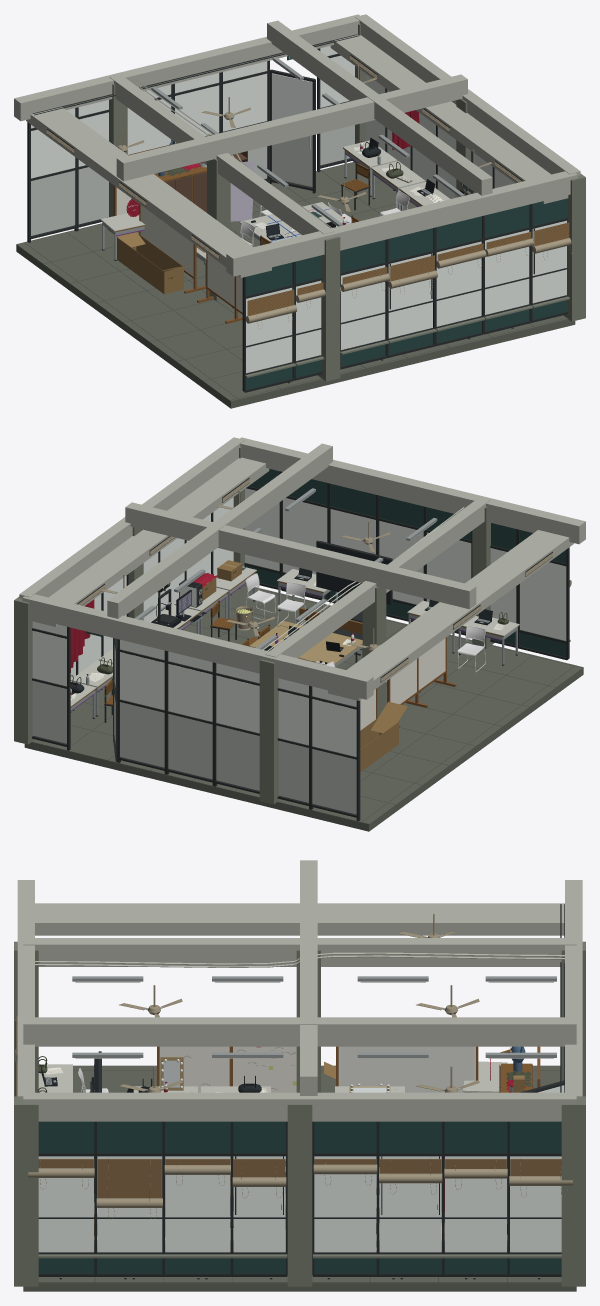
The model's file is studio.glb.
3 views of the same model, one above another, from view 1: azimuth 30°, elevation 25°; view 2: azimuth 150°, elevation 25°; view 3: azimuth 270°, elevation 25° (orthographic). The views are drawn at different scales.
Visible parts, largest first — view 1: architecture, services, window-portals, foliage-panels, furniture, details-perimeter--2-0, central-furniture, details-perimeter--1-1, details-perimeter-1-0, details-perimeter-1-1; view 2: architecture, services, window-portals, furniture, foliage-panels, central-furniture, details-perimeter--2-0, details-perimeter-1--1, details-perimeter-1--2, details-perimeter-1-1; view 3: services, architecture, window-portals, foliage-panels, furniture, details-perimeter--2-0, details-perimeter--1--1, details-perimeter--1-1.
Part boxes in pixels (x1=…): architecture: x1=16, y1=24, x2=585, y2=408; services: x1=14, y1=14, x2=580, y2=277; window-portals: x1=31, y1=46, x2=566, y2=373; foliage-panels: x1=246, y1=198, x2=567, y2=389; furniture: x1=100, y1=134, x2=513, y2=383; details-perimeter--2-0: x1=117, y1=233, x2=192, y2=294; central-furniture: x1=239, y1=202, x2=359, y2=246; details-perimeter--1-1: x1=158, y1=140, x2=254, y2=221; details-perimeter-1-0: x1=385, y1=110, x2=458, y2=202; details-perimeter-1-1: x1=354, y1=132, x2=405, y2=171; architecture: x1=14, y1=447, x2=583, y2=831; services: x1=19, y1=437, x2=585, y2=700; window-portals: x1=32, y1=488, x2=566, y2=756; furniture: x1=70, y1=540, x2=519, y2=730; foliage-panels: x1=245, y1=469, x2=566, y2=657; central-furniture: x1=241, y1=608, x2=362, y2=667; details-perimeter--2-0: x1=360, y1=701, x2=407, y2=772; details-perimeter-1--1: x1=142, y1=576, x2=216, y2=628; details-perimeter-1--2: x1=201, y1=560, x2=252, y2=630; details-perimeter-1-1: x1=70, y1=627, x2=100, y2=700; services: x1=17, y1=860, x2=582, y2=1121; architecture: x1=14, y1=941, x2=585, y2=1291; window-portals: x1=38, y1=1083, x2=564, y2=1252; foliage-panels: x1=38, y1=1121, x2=561, y2=1273; furniture: x1=38, y1=1046, x2=540, y2=1279; details-perimeter--2-0: x1=324, y1=1046, x2=472, y2=1092; details-perimeter--1--1: x1=160, y1=1057, x2=299, y2=1092; details-perimeter--1-1: x1=500, y1=1046, x2=531, y2=1092.
Bounding box in the file's own units: 9.01 × 4.08 × 9.82.
